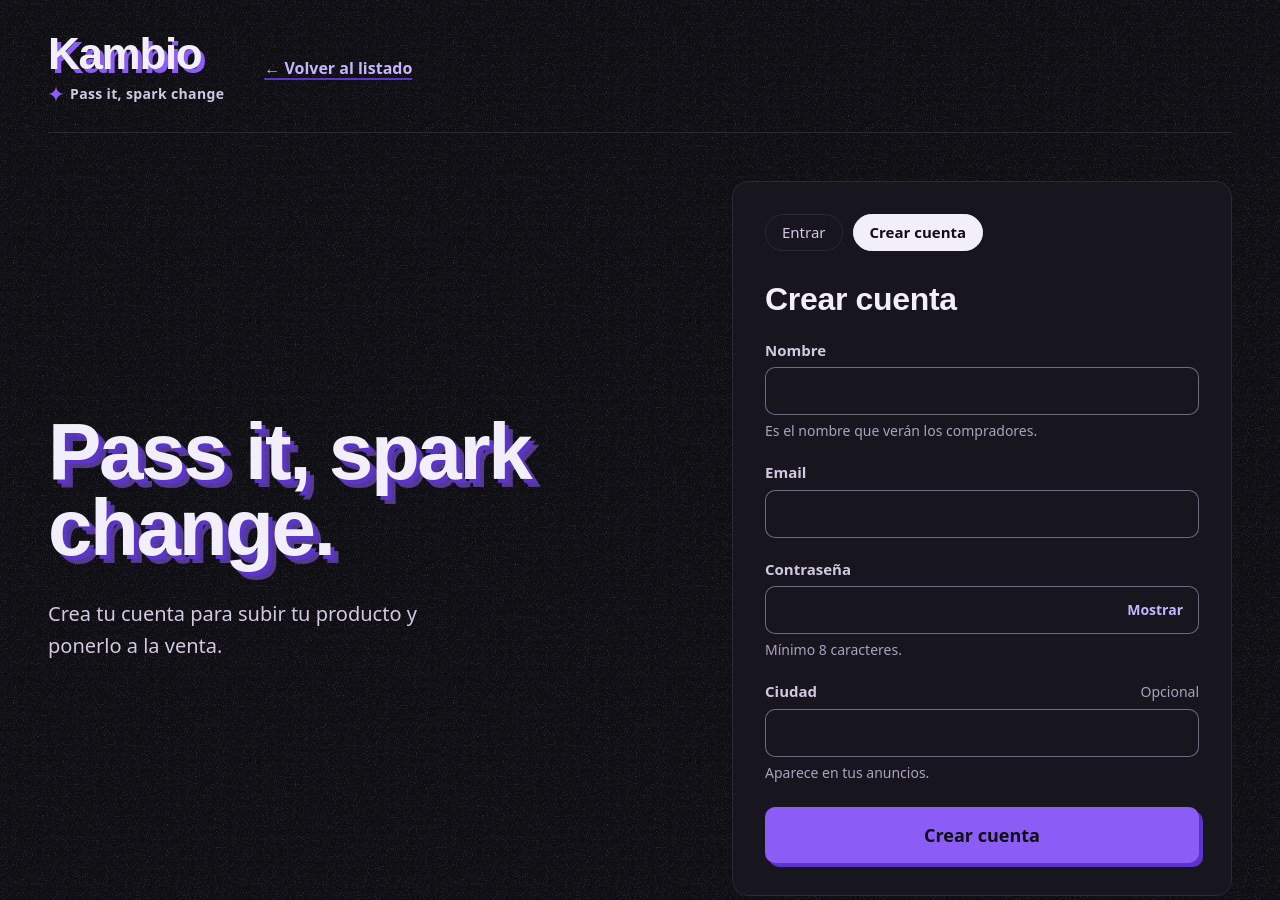
Scenario: RegisterPage › no envía nada con una contraseña de menos de 8 caracteres
Type "Ana" into the field labelled "Nombre" at (982, 391), box 765,367 -> 1199,415
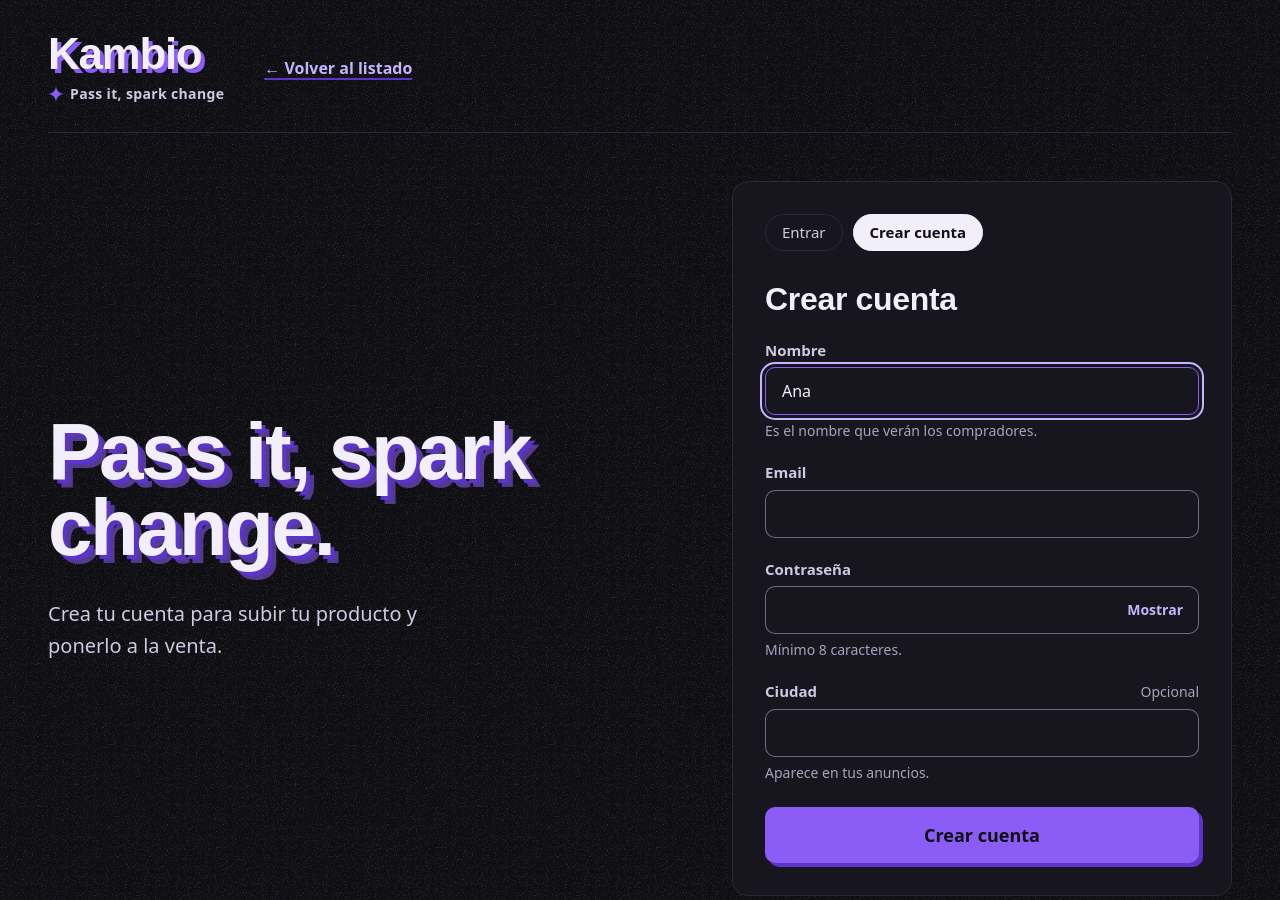
Type "ana@correo.com" into the field labelled "Email" at (982, 514), box 765,490 -> 1199,538
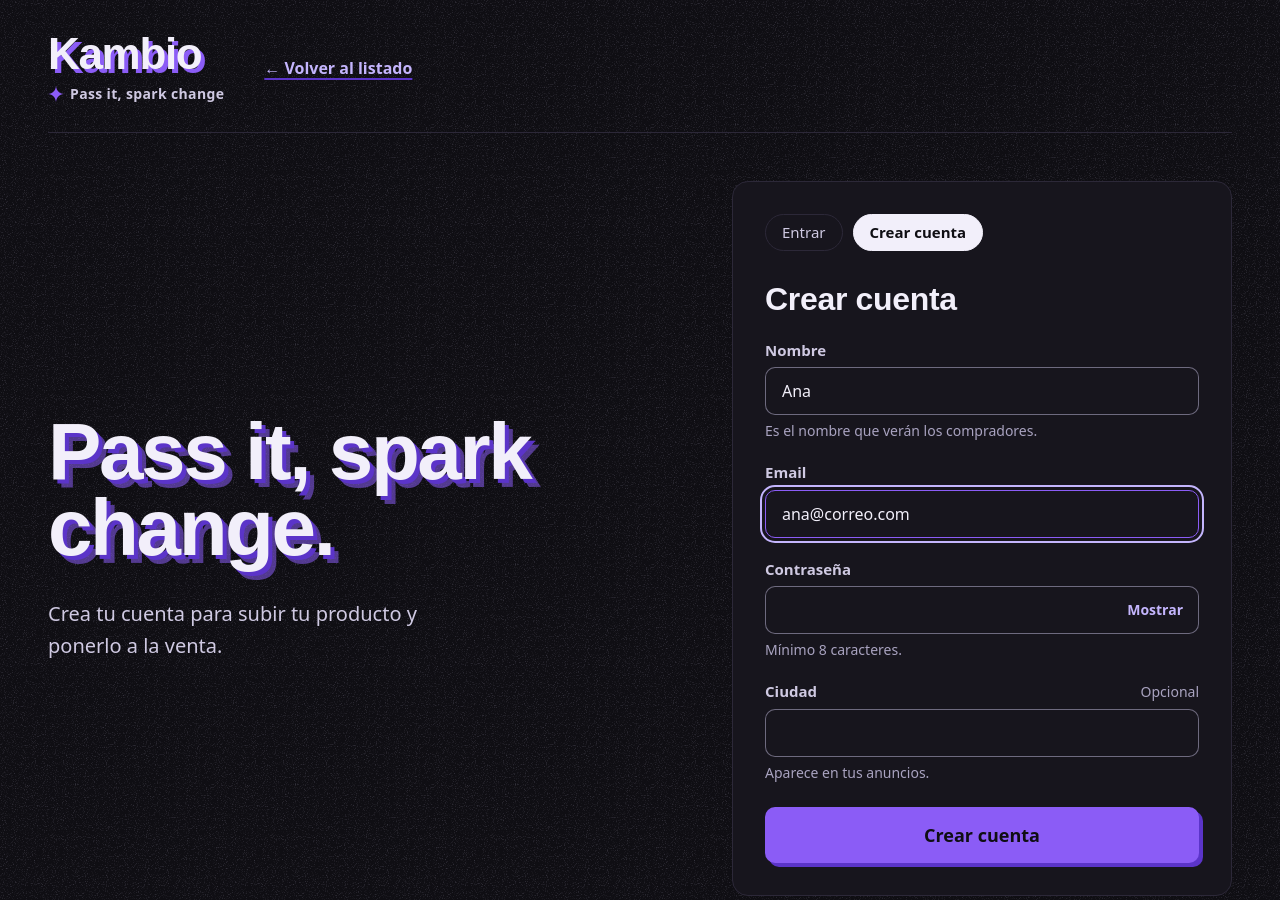
Type "corta" into the password field labelled "Contraseña" at (982, 610), box 765,586 -> 1199,634
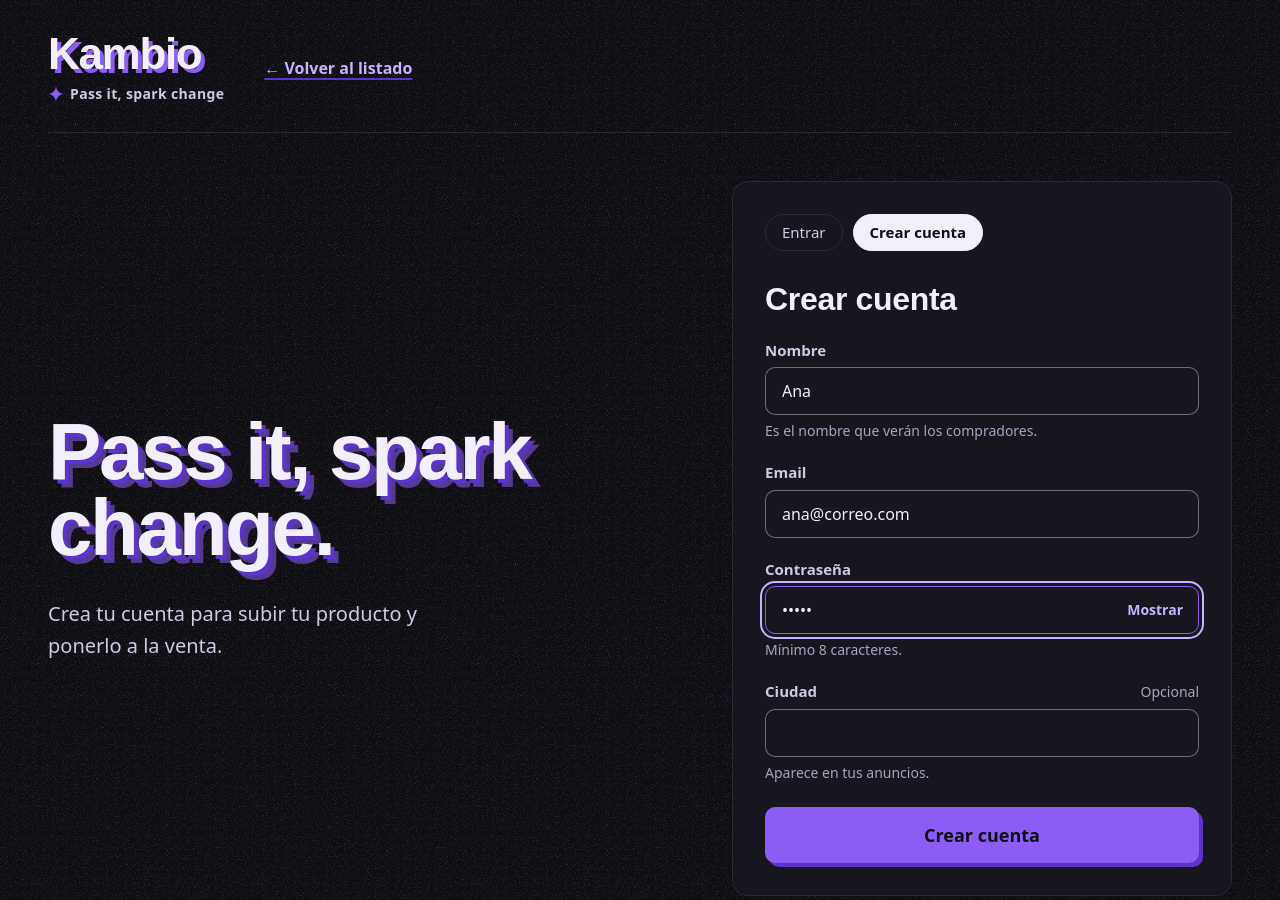
Type " Madrid " into the field labelled "Ciudad Opcional" at (982, 732), box 765,708 -> 1199,756
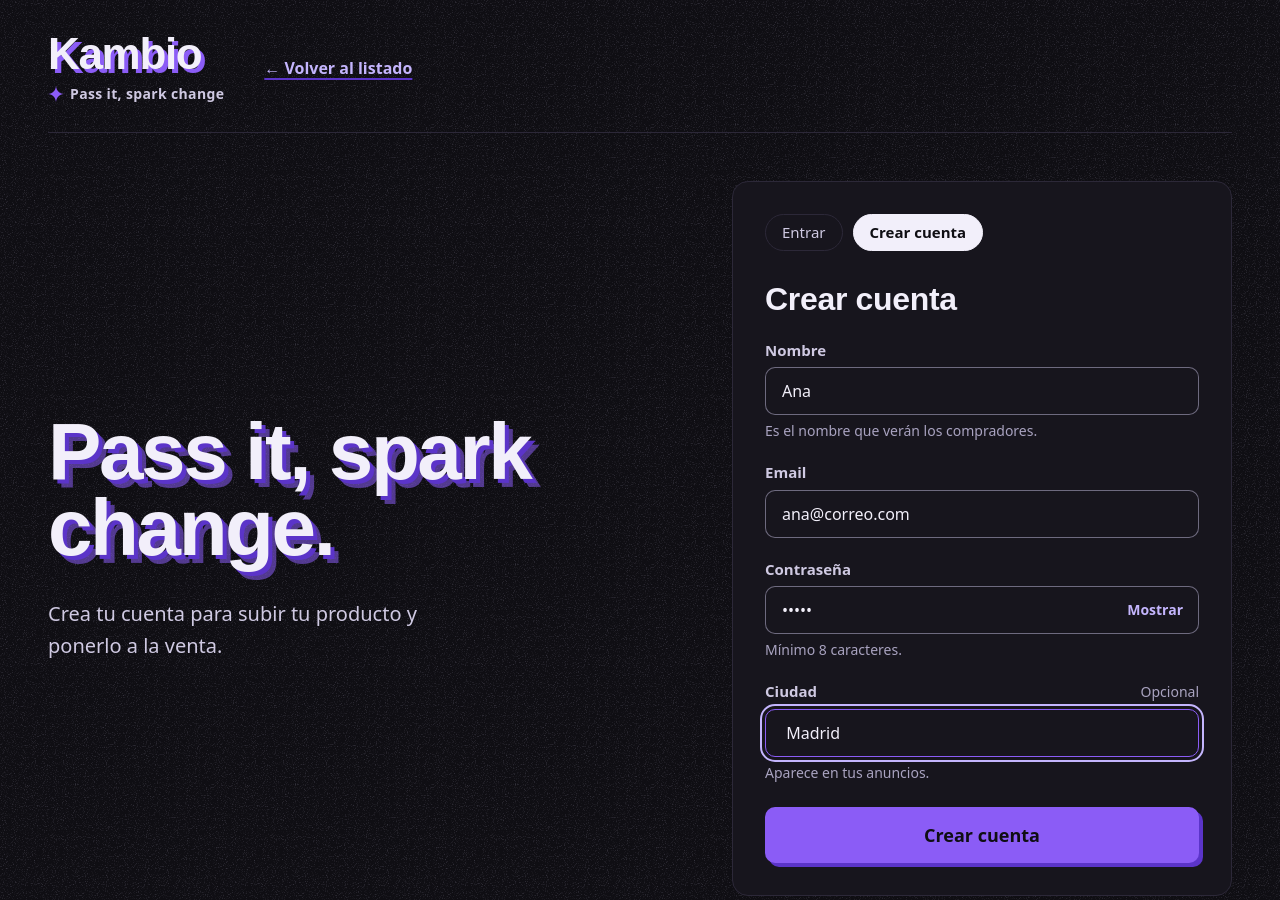
Click the button "Crear cuenta" at (982, 834), box 765,806 -> 1199,862
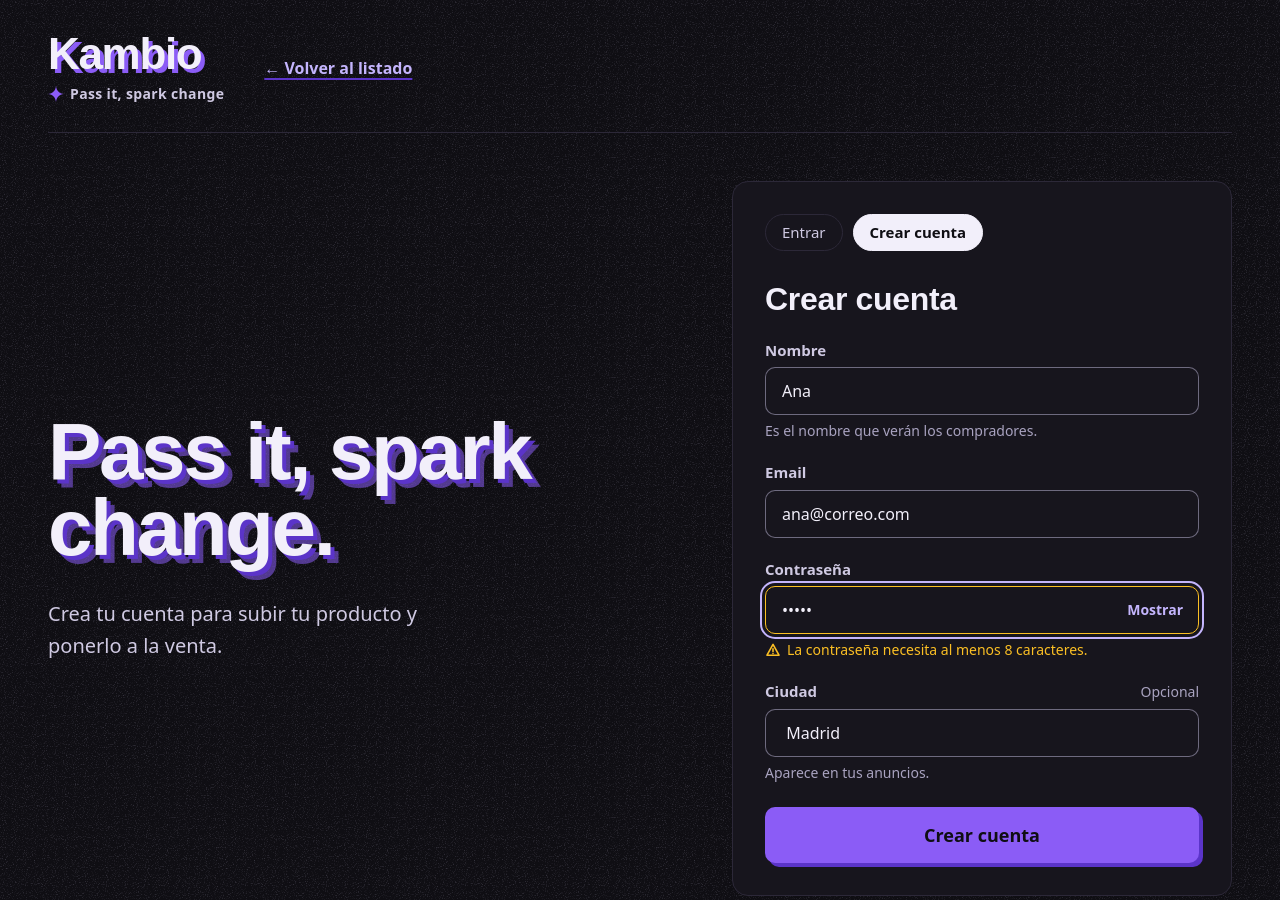
Check: the text "La contraseña necesita al menos 8 caracteres." is shown, box 787,640 -> 1088,660
